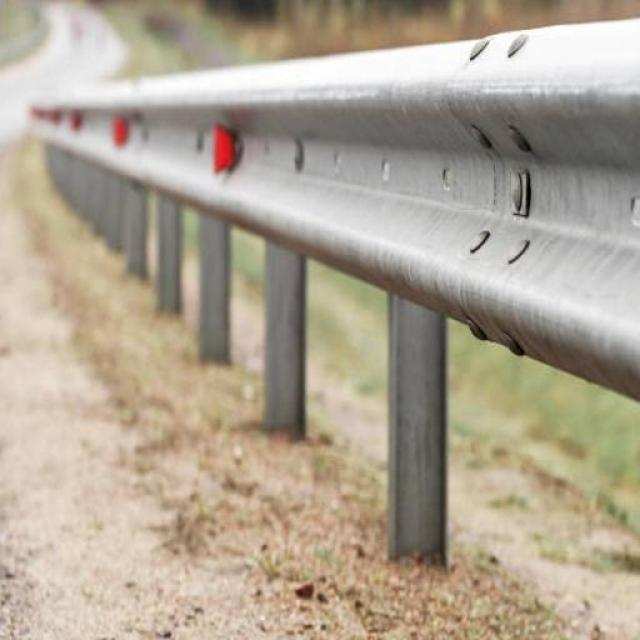Guard rail: (13, 7, 640, 624)
